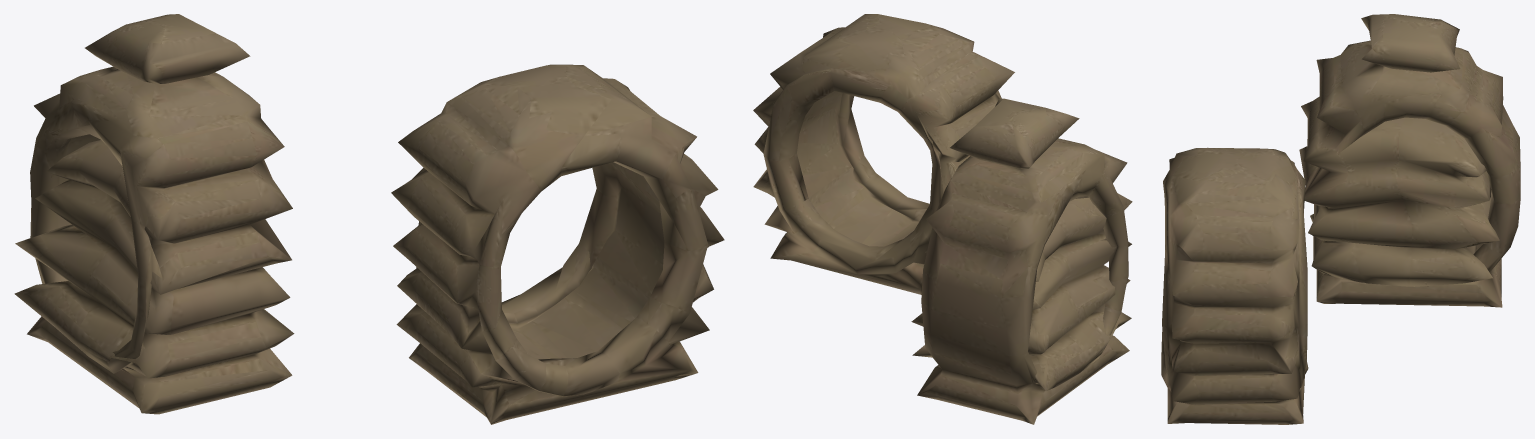
File: l_sandbags.glb
3 renders of one model, left to right at view 1: azimuth 30°, elevation 25°; view 2: azimuth 150°, elevation 25°; view 3: azimuth 270°, elevation 25°, orthographic. The views are drawn at different scales.
Bounding box in the file's own units: 0.9561 × 0.6036 × 0.7485.
Materials: 1 (1 with a texture image).
